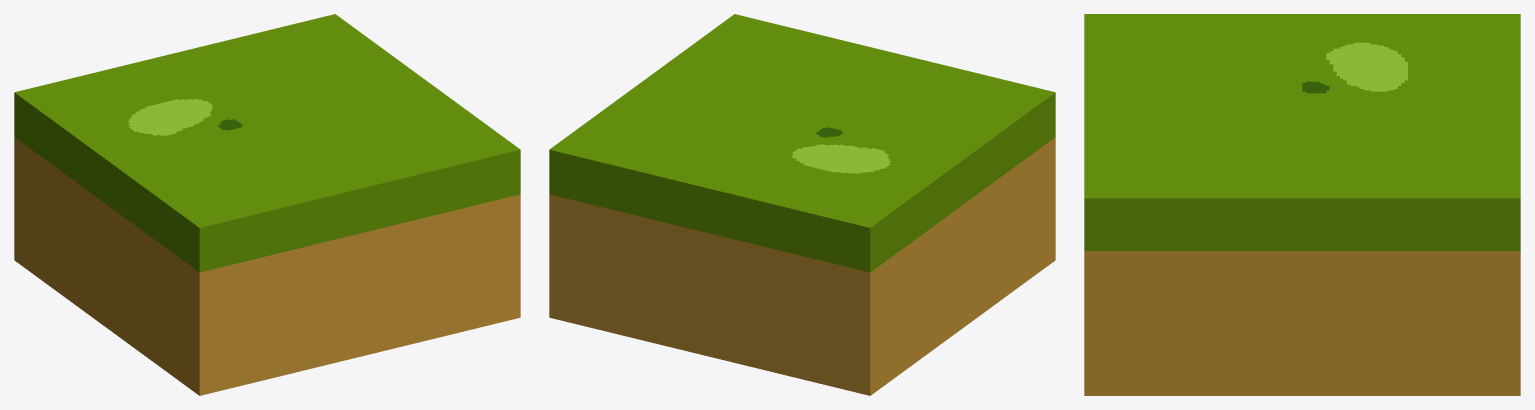
The picture shows the model from 3 angles, left to right: view 1: azimuth 30°, elevation 25°; view 2: azimuth 150°, elevation 25°; view 3: azimuth 270°, elevation 25°; orthographic projection. The views are drawn at different scales.
Parts seen in each view (by area): view 1: 12G; view 2: 12G; view 3: 12G.
Part boxes in pixels (x1,y1,x2,y2): 12G: (14,14,520,395); 12G: (549,14,1055,395); 12G: (1084,14,1520,395).
Bounding box in the file's own units: 12.8 × 6.4 × 12.8.
1 material, 1 textured.
